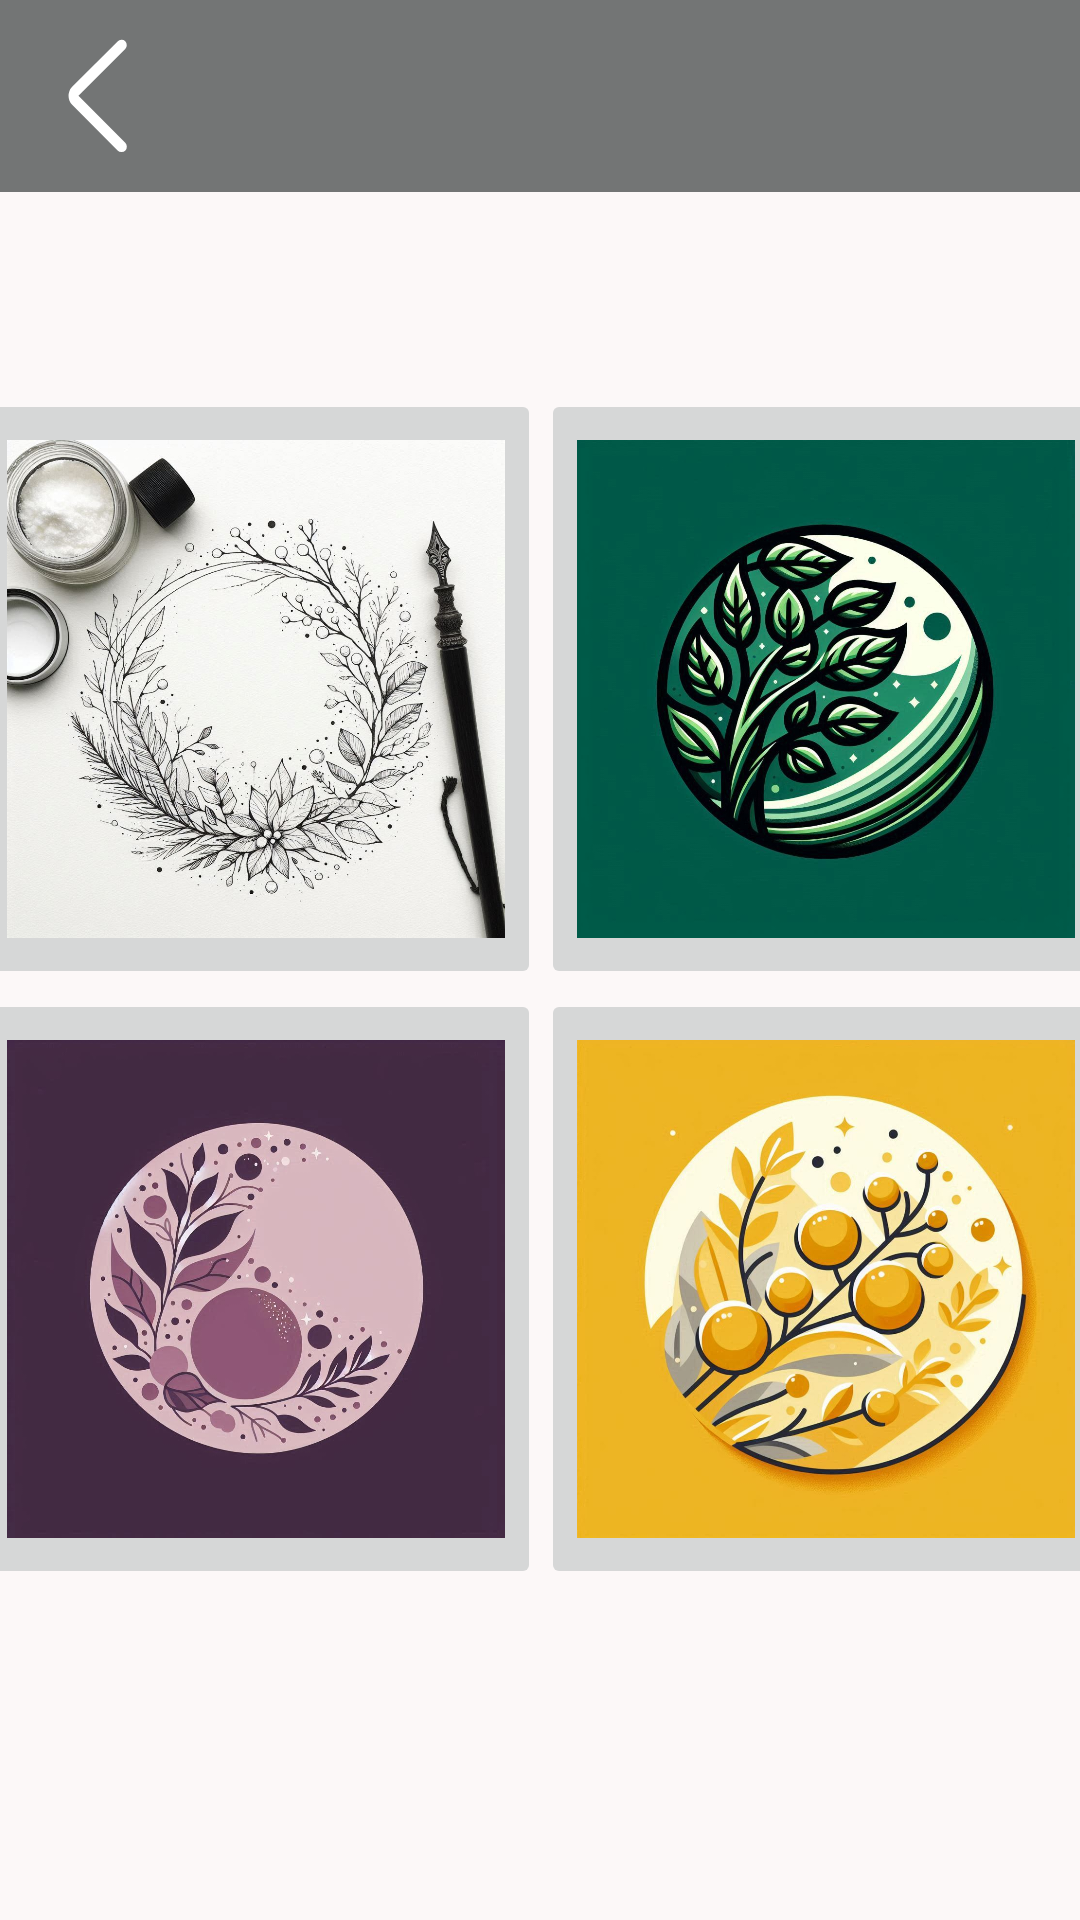

Icons on this 1080w x 1920h Android screen, each with the point to tap as (x,y):
arrow back: (97,95)
